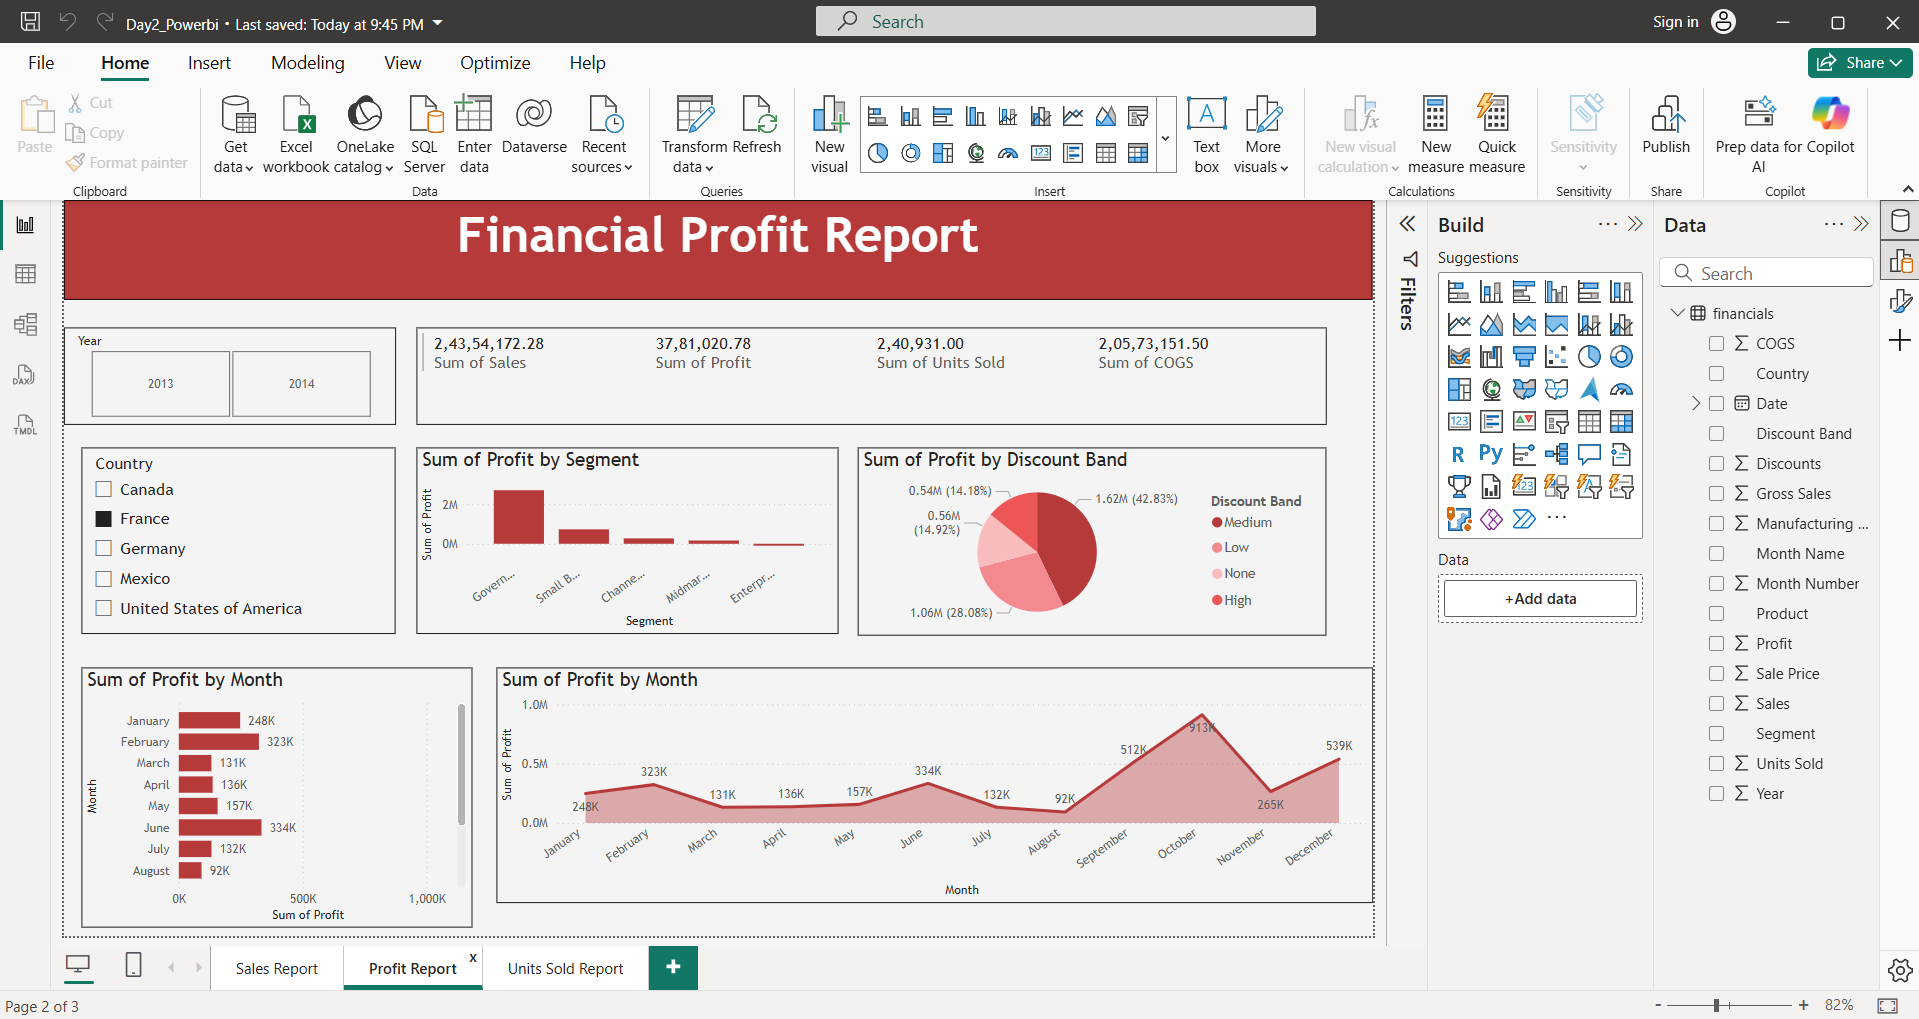

The page's visual inventory and layout, read from the dashboard file:
{"tool":"powerbi","page":{"name":"Profit Report","canvas":[1280,720],"ordinal":1},"visuals":[{"type":"multiRowCard","fields":{"Values":["Sum(financials.Sales)","Sum(financials.Profit)","Sum(financials.Units Sold)","Sum(financials.COGS)"]},"box":[345,125,890,95],"z":0},{"type":"clusteredBarChart","fields":{"Category":["financials.Date.Variation.Date Hierarchy.Month"],"Y":["Sum(financials.Profit)"]},"box":[17.7,457.7,382.3,254.6],"z":1000},{"type":"slicer","fields":{"Values":["financials.Date.Variation.Date Hierarchy.Year"]},"box":[0,125,325,95],"z":2000},{"type":"textbox","box":[0,0,1280,97.5],"z":3000},{"type":"areaChart","fields":{"Category":["financials.Date.Variation.Date Hierarchy.Month"],"Y":["Sum(financials.Profit)"]},"box":[422.5,457.5,857.5,230],"z":4000},{"type":"slicer","fields":{"Values":["financials.Country"]},"box":[17.5,242.5,307.5,182.5],"z":5000},{"type":"clusteredColumnChart","fields":{"Y":["Sum(financials.Profit)"],"Category":["financials.Segment"]},"box":[345,242.5,412.5,182.5],"z":6000},{"type":"pieChart","fields":{"Y":["Sum(financials.Profit)"],"Category":["financials.Discount Band"]},"box":[776.2,242.5,458.8,183.8],"z":7000}]}

Visuals, with their boxes on the page's 1280x720 design canvas (x1, y1, x2, y2). These are canvas units, not pixel positions in the 1919x1019 screenshot, which may show the page scaled, cropped or inside an application window:
multiRowCard - Sum(financials.Sales) x Sum(financials.Profit): locate(345, 125, 1235, 220)
clusteredBarChart - financials.Date.Variation.Date Hierarchy.Month x Sum(financials.Profit): locate(18, 458, 400, 712)
slicer - financials.Date.Variation.Date Hierarchy.Year: locate(0, 125, 325, 220)
textbox: locate(0, 0, 1280, 98)
areaChart - financials.Date.Variation.Date Hierarchy.Month x Sum(financials.Profit): locate(422, 458, 1280, 688)
slicer - financials.Country: locate(18, 242, 325, 425)
clusteredColumnChart - Sum(financials.Profit) x financials.Segment: locate(345, 242, 758, 425)
pieChart - Sum(financials.Profit) x financials.Discount Band: locate(776, 242, 1235, 426)
